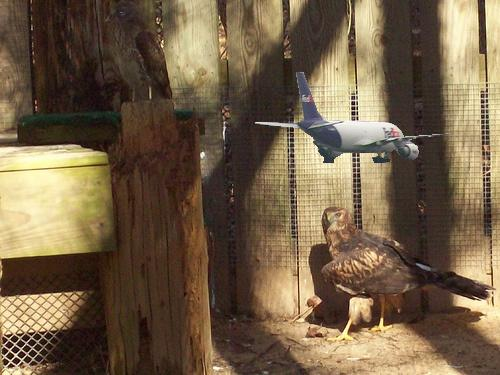tampered: (256, 73, 450, 163)
